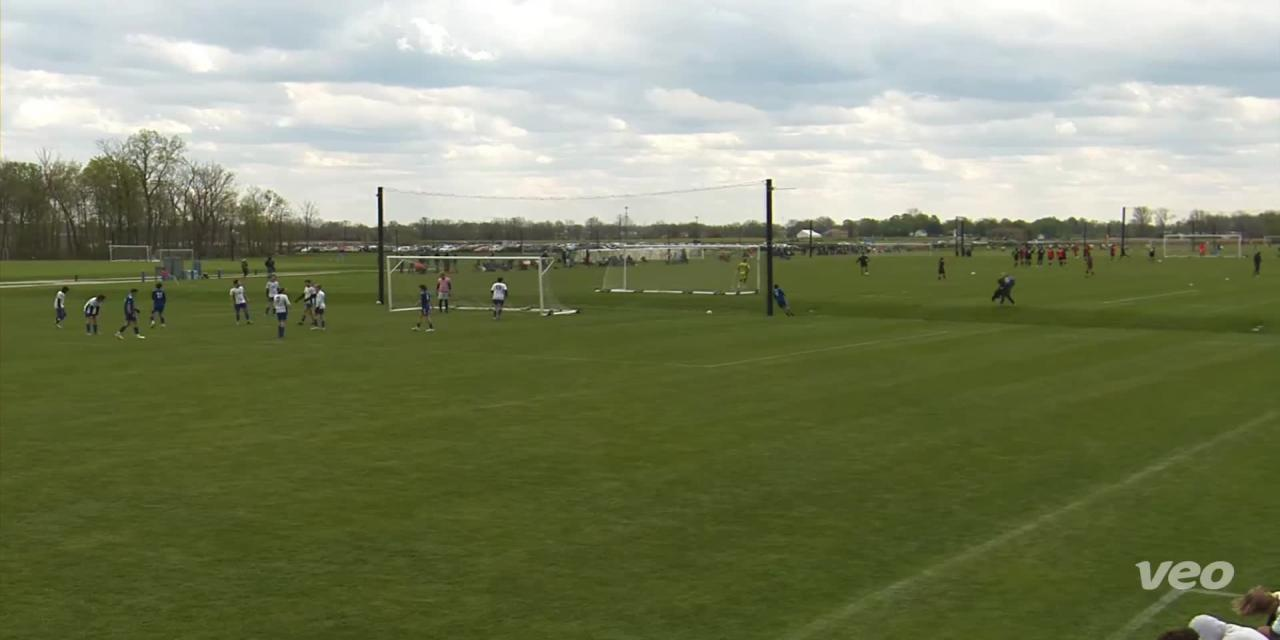goal: (381, 249, 585, 322)
sports ball: (706, 306, 716, 320)
